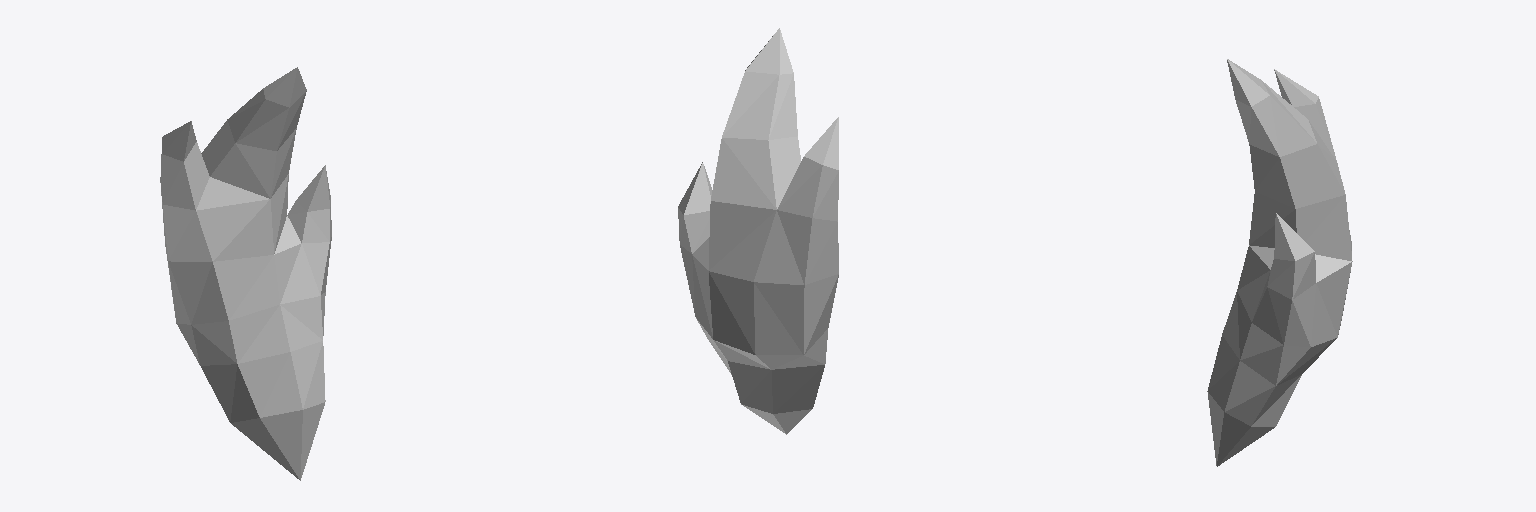
The model's file is stone_04_spikes.obj.
3 renders of one model, left to right at view 1: azimuth 30°, elevation 25°; view 2: azimuth 150°, elevation 25°; view 3: azimuth 270°, elevation 25°, orthographic.
Visible parts, largest first — view 1: stone_04_spikes; view 2: stone_04_spikes; view 3: stone_04_spikes.
Boxes of the visible parts, <box> form: stone_04_spikes: <box>160,67,331,480</box>; stone_04_spikes: <box>678,28,838,434</box>; stone_04_spikes: <box>1207,59,1352,466</box>.
Size of the model in its own units: 185 by 441 by 141.